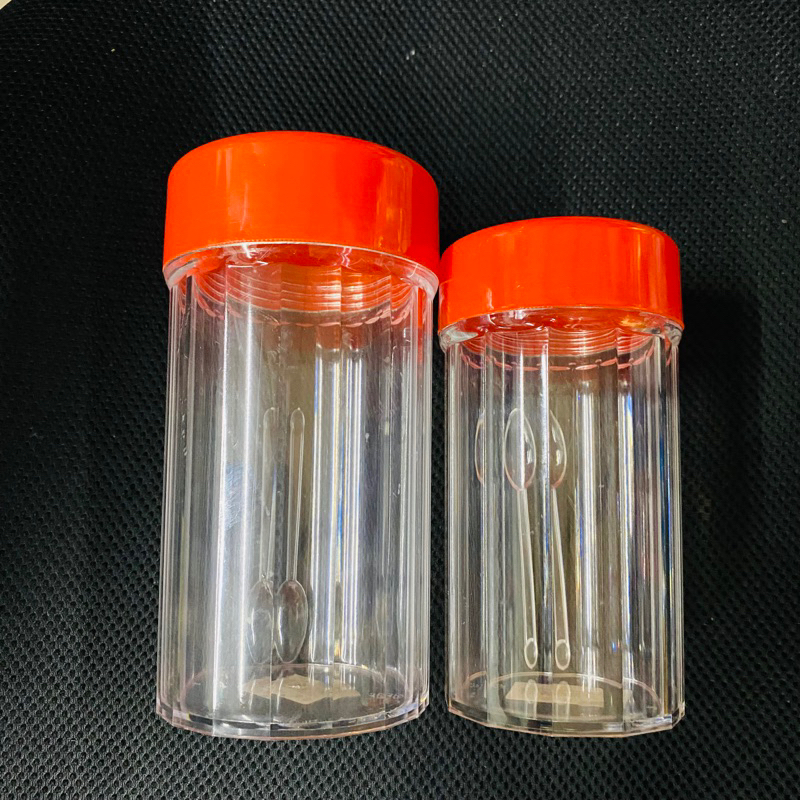medicinejar: (163, 139, 444, 745), (434, 209, 698, 736)
